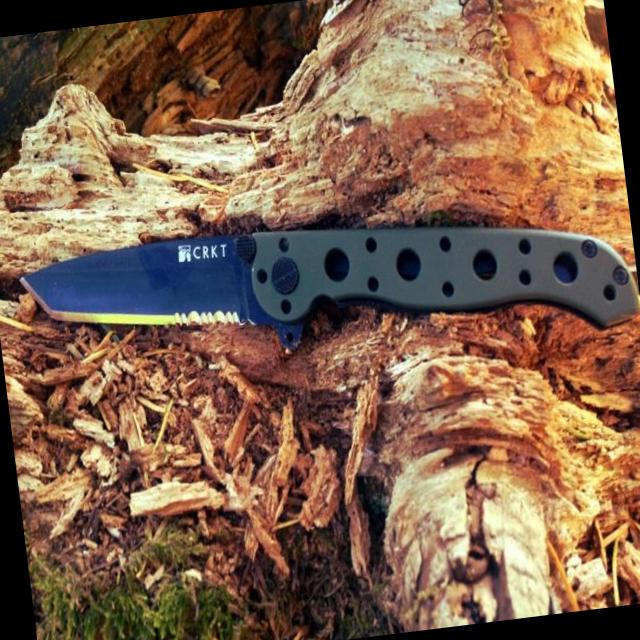Knife: (20, 226, 640, 348)
